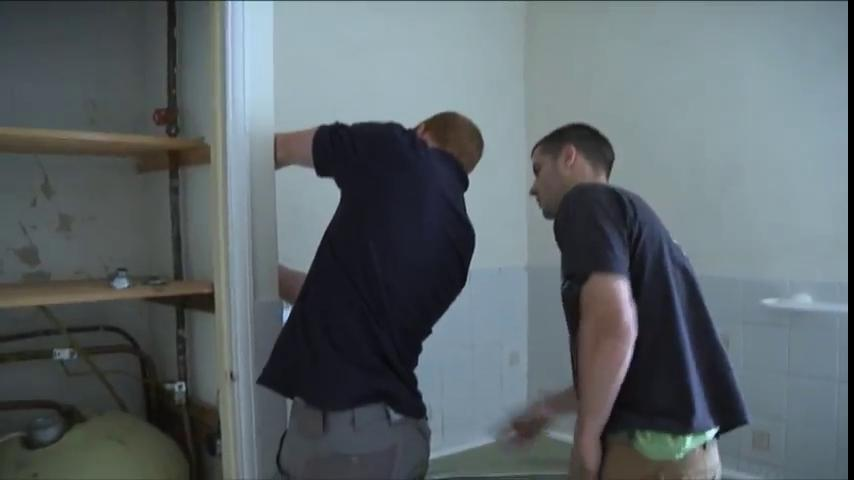victim: (246, 108, 484, 479), (507, 122, 736, 478)
